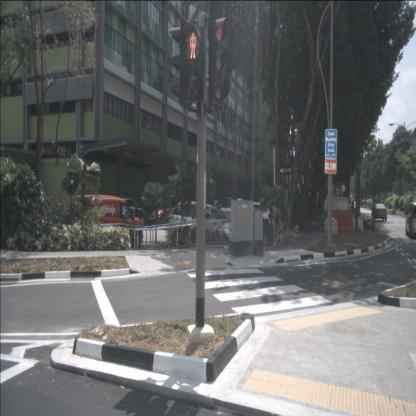barrier: (331, 210, 353, 232)
cone: (334, 219, 339, 235), (358, 220, 363, 234), (324, 221, 328, 237)
